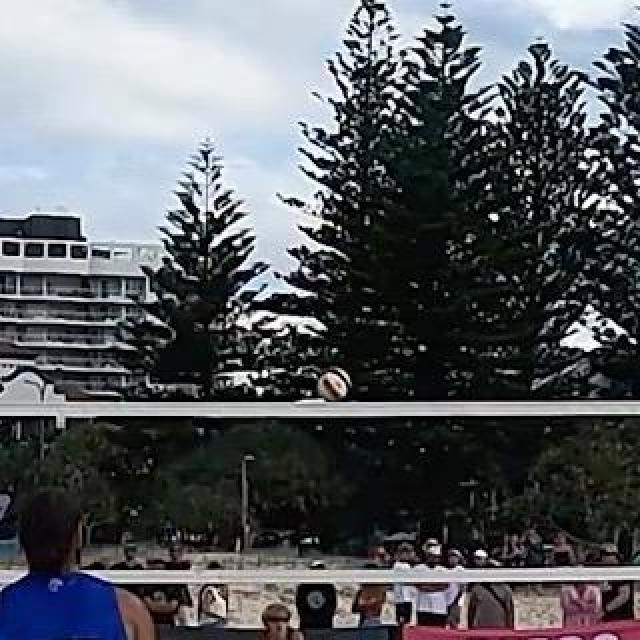volleyball: (317, 369, 349, 401)
